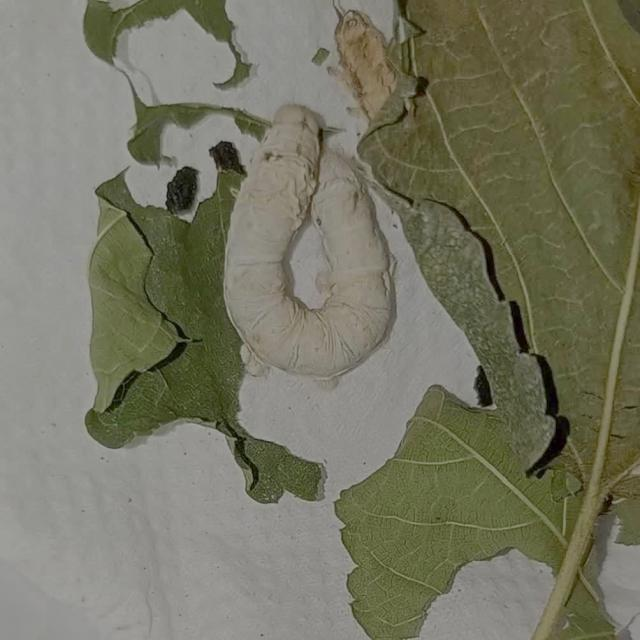Healthy: (207, 74, 441, 423)
